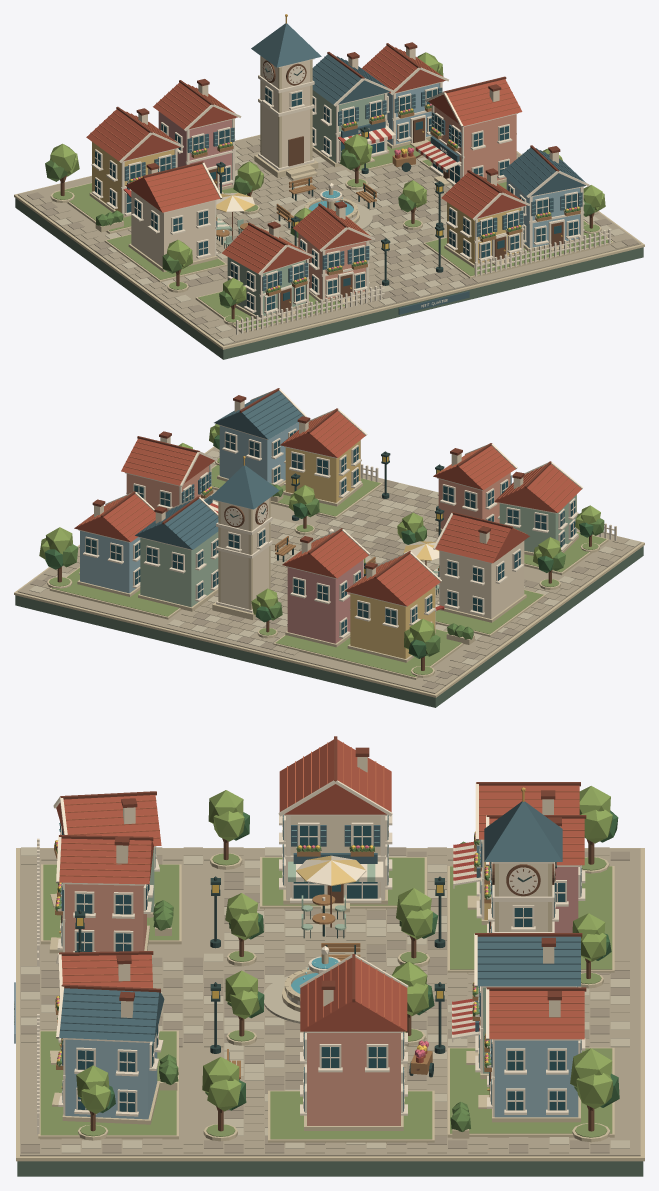
File: little-town.glb
3 renders of one model, top to bottom at view 1: azimuth 30°, elevation 25°; view 2: azimuth 150°, elevation 25°; view 3: azimuth 270°, elevation 25°, orthographic. The views are drawn at different scales.
Visible parts, largest first — view 1: Diorama base, Town pavement, Plaster walls.004, Sandstone base lip, Tower walls, Gabled roof.004, Gabled roof, Plaster walls.005, Gabled roof.005, Gabled roof.009, Gabled roof.002, Gabled roof.006 (+20 smaller); view 2: Diorama base, Town pavement, Plaster walls.004, Plaster walls.001, Plaster walls.002, Tower walls, Plaster walls, Sandstone base lip, Gabled roof, Gabled roof.004, Gabled roof.005, Plaster walls.003 (+22 smaller); view 3: Town pavement, Diorama base, Plaster walls.005, Sandstone base lip, Gabled roof.005, Gabled roof.004, Gabled roof.002, Garden lawn.003, Plaster walls.003, Gabled roof.009, Garden lawn, Garden lawn.001 (+39 smaller).
Boxes of the visible parts, bbox=[...] form: Diorama base: bbox=[15, 198, 643, 359]; Town pavement: bbox=[17, 135, 641, 345]; Plaster walls.004: bbox=[131, 190, 214, 267]; Sandstone base lip: bbox=[14, 134, 644, 349]; Tower walls: bbox=[261, 57, 309, 167]; Gabled roof.004: bbox=[125, 164, 220, 212]; Gabled roof: bbox=[86, 109, 180, 161]; Plaster walls.005: bbox=[434, 106, 516, 180]; Gabled roof.005: bbox=[428, 79, 522, 126]; Gabled roof.009: bbox=[501, 147, 585, 196]; Gabled roof.002: bbox=[312, 54, 390, 104]; Gabled roof.006: bbox=[222, 225, 312, 273]; Diorama base: bbox=[15, 546, 643, 707]; Town pavement: bbox=[17, 447, 640, 693]; Plaster walls.004: bbox=[440, 541, 524, 618]; Plaster walls.001: bbox=[287, 560, 363, 643]; Plaster walls.002: bbox=[140, 532, 218, 607]; Tower walls: bbox=[220, 499, 268, 609]; Plaster walls: bbox=[350, 586, 435, 658]; Sandstone base lip: bbox=[14, 446, 644, 697]; Gabled roof: bbox=[344, 554, 440, 606]; Gabled roof.004: bbox=[435, 514, 529, 563]; Gabled roof.005: bbox=[121, 438, 214, 485]; Plaster walls.003: bbox=[80, 530, 140, 593]; Town pavement: bbox=[20, 848, 640, 1156]; Diorama base: bbox=[17, 1161, 643, 1176]; Plaster walls.005: bbox=[307, 1033, 400, 1125]; Sandstone base lip: bbox=[16, 848, 644, 1161]; Gabled roof.005: bbox=[300, 957, 407, 1031]; Gabled roof.004: bbox=[279, 739, 391, 814]; Gabled roof.002: bbox=[477, 936, 580, 986]; Garden lawn.003: bbox=[40, 1031, 176, 1135]; Plaster walls.003: bbox=[494, 1040, 578, 1117]; Gabled roof.009: bbox=[59, 988, 164, 1041]; Garden lawn: bbox=[450, 866, 612, 969]; Garden lawn.001: bbox=[450, 1048, 612, 1133].
Bounding box in the file's own units: 28.12 × 10.6 × 24.19.
